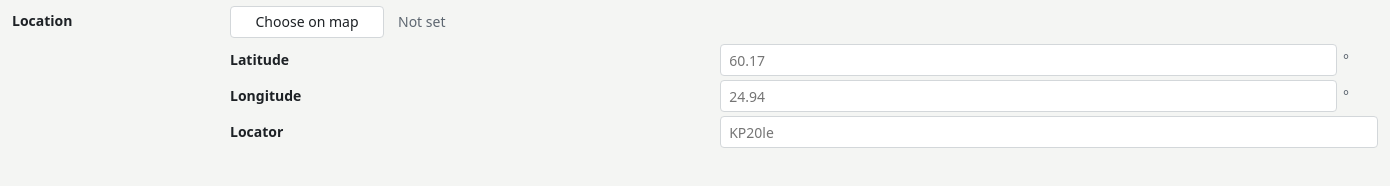
Test: LocationField › says a locator of 6 characters or more that is none, and nothing while it is still being typed
Type "KP20i" into the field with id "loc-locator" at (1049, 132), box [720, 116, 1378, 148]
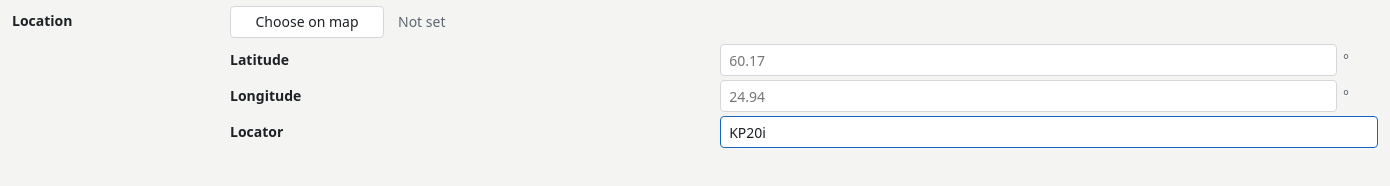
Replace the text in the field with id "loc-locator" with "SS00aa" at (1049, 132), box [720, 116, 1378, 148]
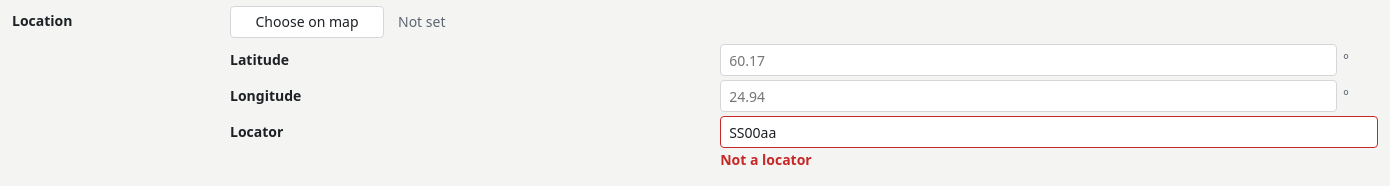
expect the message with class "field-error" reads "Not a locator": met, box [720, 150, 812, 169]
